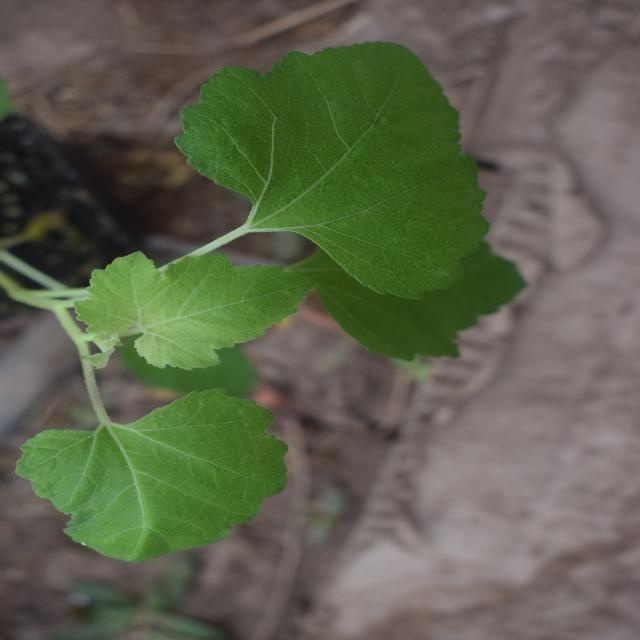cocklebur: (74, 14, 564, 478)
